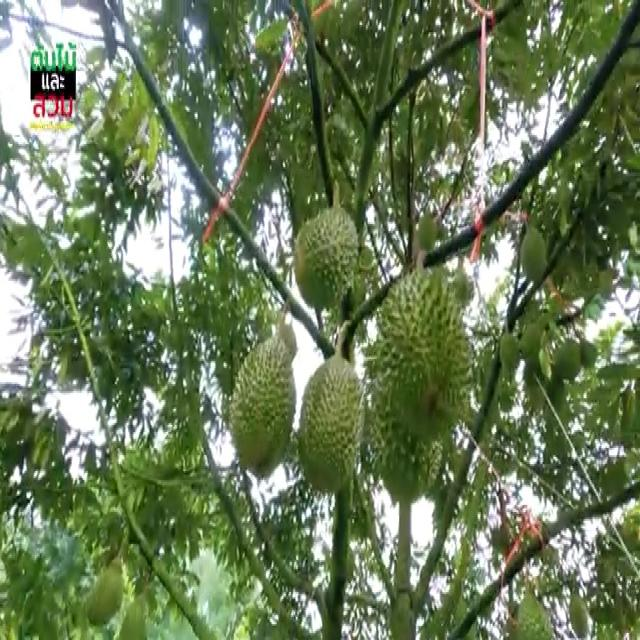durian: (365, 263, 479, 442), (364, 378, 448, 506), (228, 334, 298, 483), (296, 354, 364, 496), (290, 207, 362, 317), (84, 556, 128, 631), (520, 221, 550, 285), (566, 591, 591, 638), (499, 328, 522, 372)
